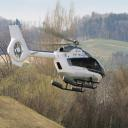helicopter: (9, 26, 107, 93)
